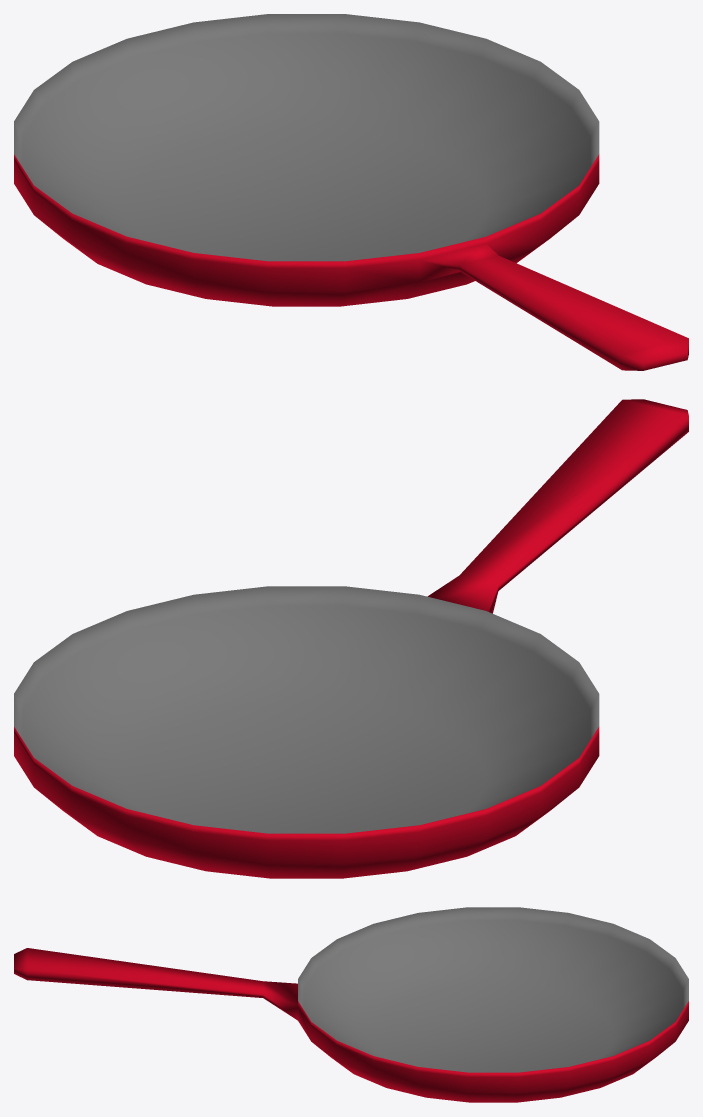
The model's file is fryingpan.fbx.
3 views of the same model, one above another, from view 1: azimuth 30°, elevation 25°; view 2: azimuth 150°, elevation 25°; view 3: azimuth 270°, elevation 25° (orthographic). The views are drawn at different scales.
Parts seen in each view (by area): view 1: fryingpan; view 2: fryingpan; view 3: fryingpan.
Part boxes in pixels (bbox=[...]): fryingpan: bbox=[14, 14, 688, 370]; fryingpan: bbox=[14, 399, 688, 878]; fryingpan: bbox=[14, 907, 688, 1102].
Size of the model in its own units: 41.64 by 9.78 by 71.88.
